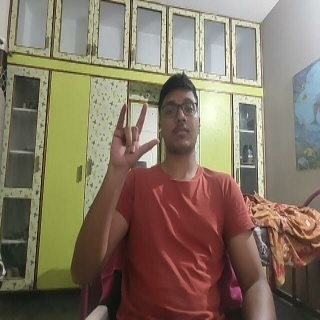Face: (157, 72, 201, 156)
I Love You: (108, 99, 160, 172)
